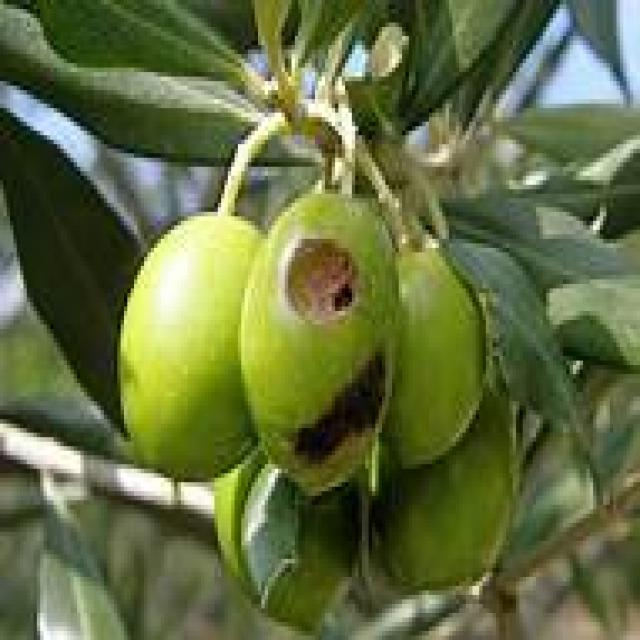Olive Fruit Fly: (241, 198, 398, 491)
